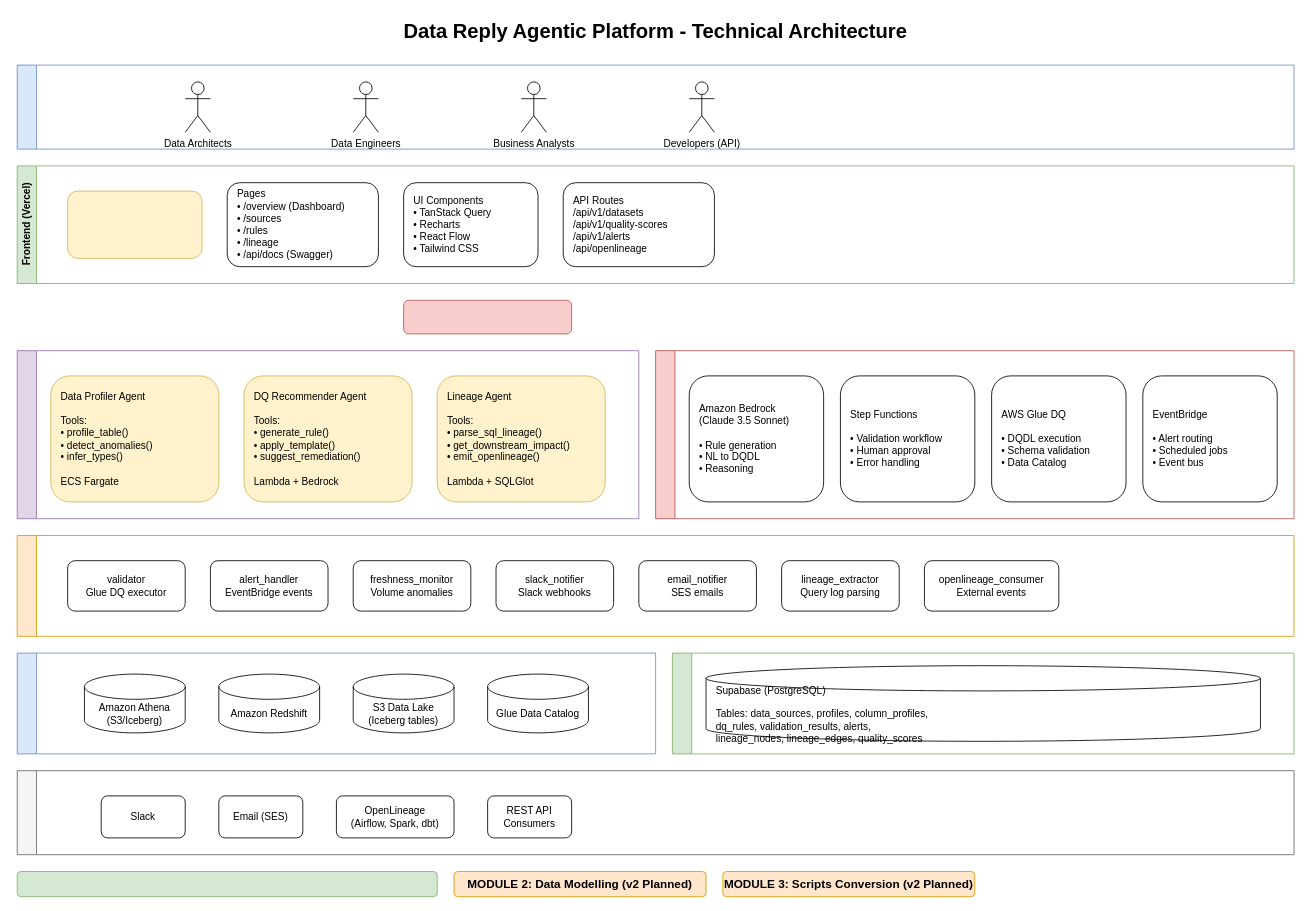
The diagram is 1309 pixels wide and 911 high, and some of its shapes have lost their labels. The shapes that lost their labels are listed below. From the top down, each one's box as (x1, y1, x2, y2) in pixels, then its label:
(16, 64, 1294, 149): Users
(67, 190, 202, 258): Next.js 15 (App Router) React 19 + TypeScript
(403, 299, 572, 334): AWS API Gateway
(16, 350, 639, 519): AI Agents (Strands SDK)
(655, 350, 1294, 519): AWS Services
(16, 535, 1294, 636): Lambda Functions
(16, 652, 656, 754): Data Sources
(672, 652, 1294, 754): Metadata Store
(16, 770, 1294, 855): External Integrations
(16, 871, 437, 897): MODULE 1: Data Lineage & Quality (v1 Complete)
